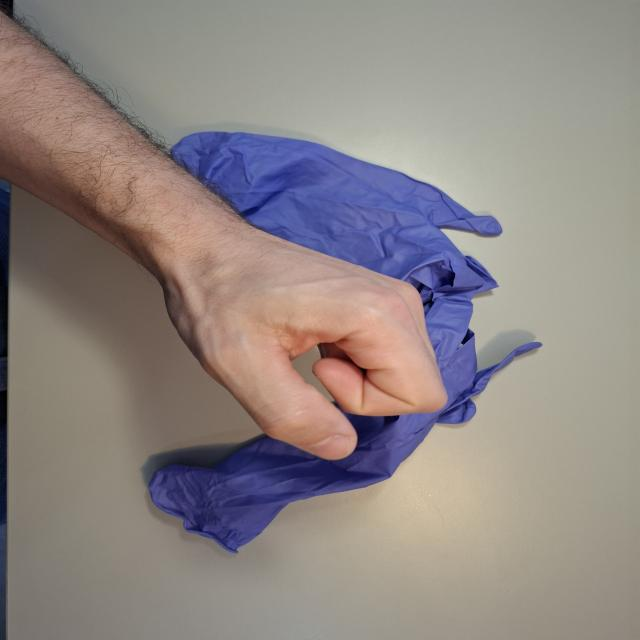glove_off: (139, 198, 451, 463)
